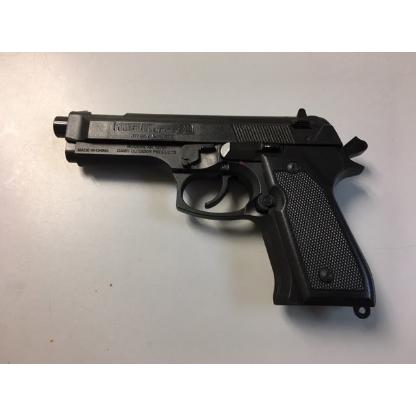gun: (52, 109, 378, 314)
